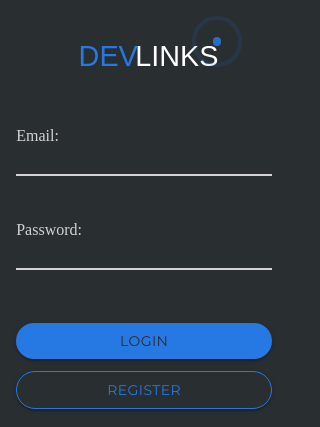
Test: Conditional Rendering to Register › Register will appear › switches to register
Step 1. Click the button with id "register-button" → (144, 391), box [16,371,272,410]
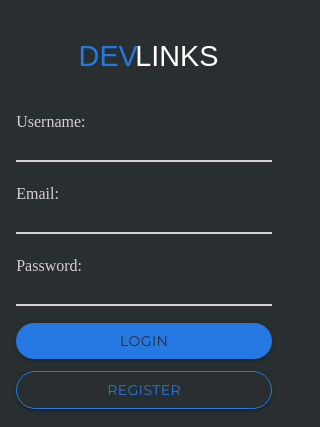
Check: the field named "username" next to "Username:" is shown, box [16,100,272,162]
Check: the field named "email" next to "Email:" is shown, box [16,172,272,234]
Check: the password field named "password" is shown, box [16,244,272,306]
